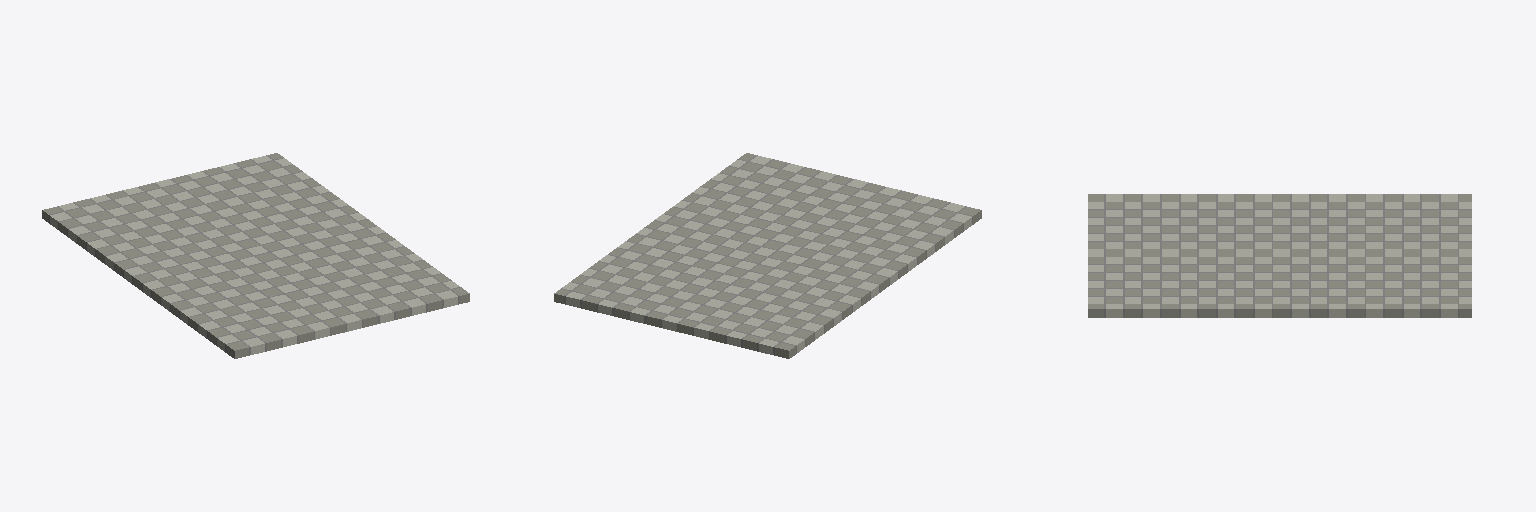
3 renders of one model, left to right at view 1: azimuth 30°, elevation 25°; view 2: azimuth 150°, elevation 25°; view 3: azimuth 270°, elevation 25°, orthographic.
Visible parts, largest first — view 1: object 1; view 2: object 1; view 3: object 1.
Boxes of the visible parts, x1,y1,x2,y2 form: object 1: [42, 153, 469, 358]; object 1: [554, 153, 981, 358]; object 1: [1088, 194, 1471, 317].
Bounding box in the file's own units: 14.6 × 0.5 × 20.7.
Materials: 1 (1 with a texture image).